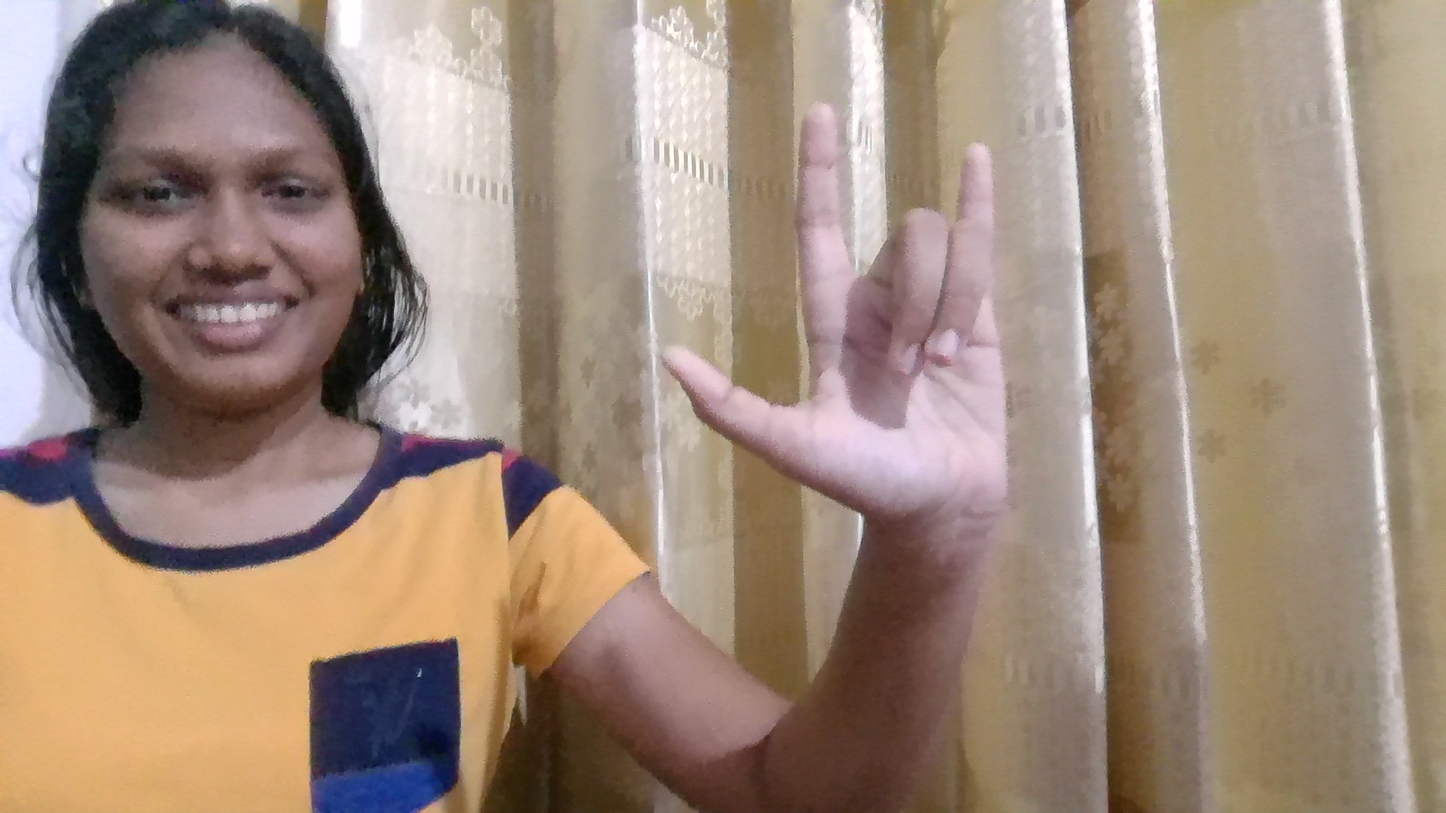I Love You: (651, 87, 1068, 586)
